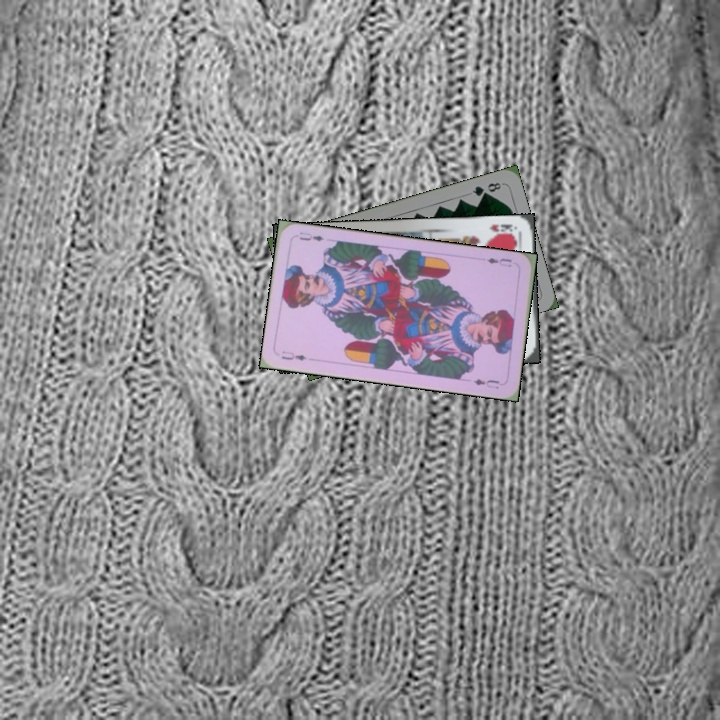EU: (278, 347, 309, 363), (483, 254, 514, 269)
G8: (468, 178, 505, 199)
HK: (486, 220, 518, 238)
